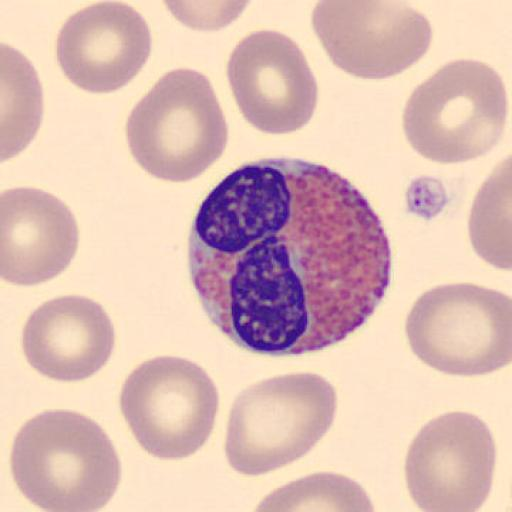RBC: (124, 65, 229, 185), (8, 406, 123, 512), (400, 56, 510, 166), (224, 370, 338, 476), (116, 353, 220, 462), (403, 280, 511, 379), (224, 26, 319, 138), (310, 0, 434, 82), (402, 409, 498, 512), (52, 0, 154, 96), (20, 292, 117, 384), (1, 184, 81, 289), (249, 468, 378, 512), (468, 151, 512, 272), (2, 42, 44, 164), (160, 0, 255, 34)
WBC: (187, 155, 395, 358)
